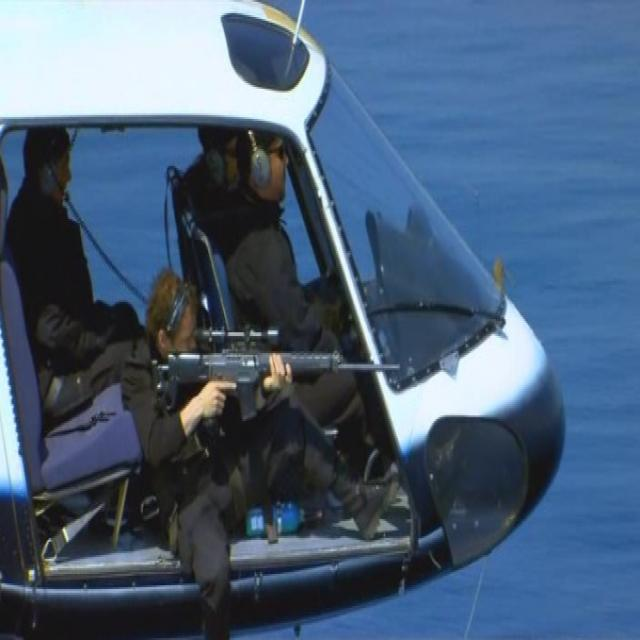rifle: (150, 325, 403, 426)
